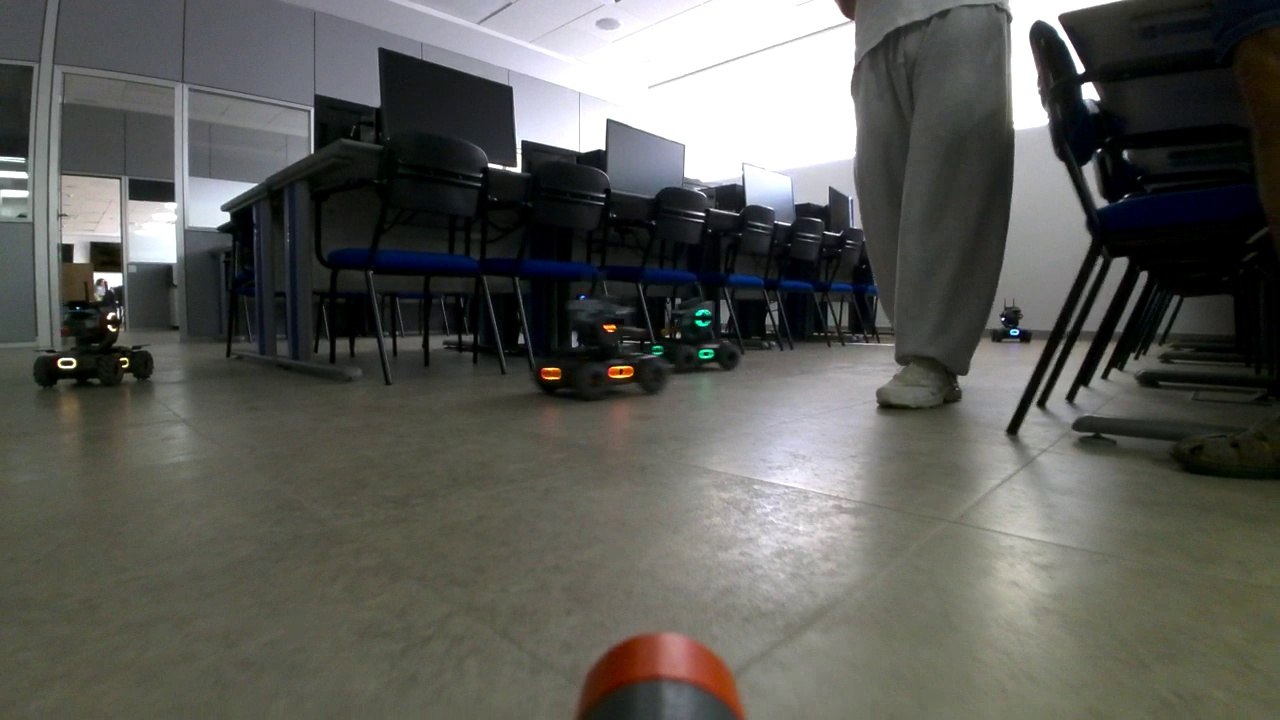robot: (533, 288, 667, 398), (33, 279, 156, 383), (650, 293, 742, 372), (992, 298, 1030, 342)
